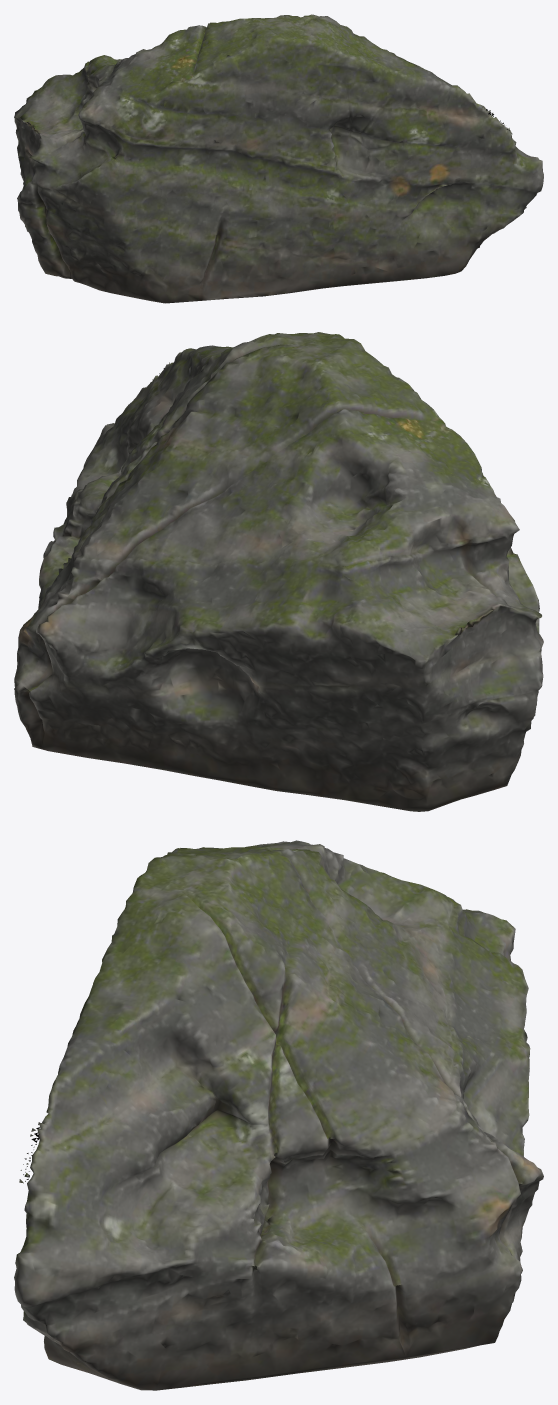
The model's file is balvan_droba_1.glb.
3 renders of one model, top to bottom at view 1: azimuth 30°, elevation 25°; view 2: azimuth 150°, elevation 25°; view 3: azimuth 270°, elevation 25°, orthographic. The views are drawn at different scales.
Visible parts, largest first — view 1: balvan_droba_1; view 2: balvan_droba_1; view 3: balvan_droba_1.
Part boxes in pixels (left/top/right/bottom): balvan_droba_1: left=14, top=14, right=543, bottom=303; balvan_droba_1: left=14, top=332, right=543, bottom=811; balvan_droba_1: left=14, top=840, right=543, bottom=1390.
Size of the model in its own units: 2.59 by 1.5 by 1.79.
1 material, 1 textured.
